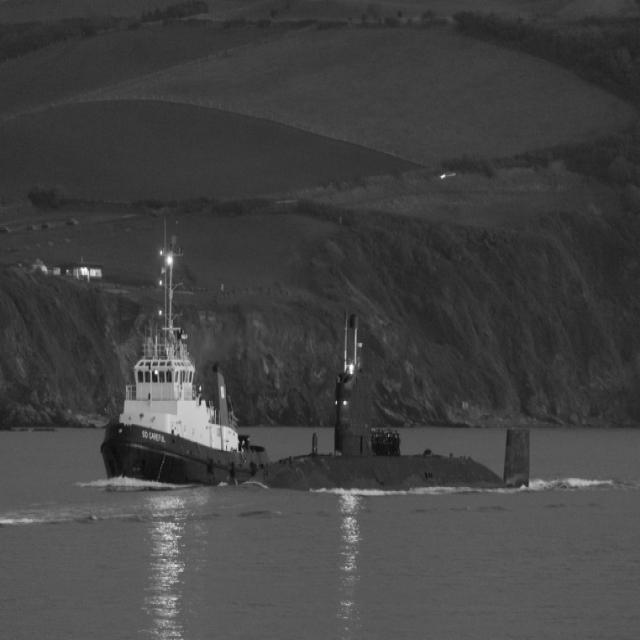submarine: (253, 371, 530, 491)
